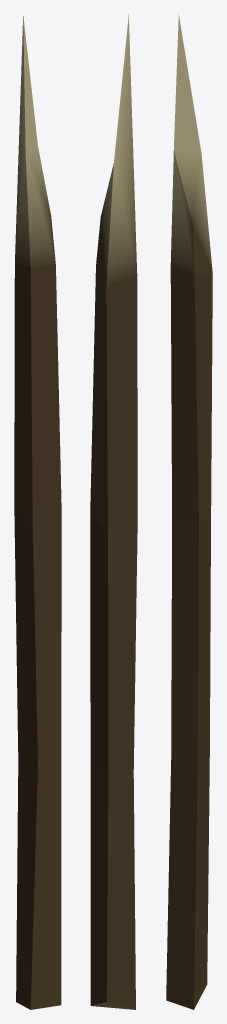
The model's file is spear1.glb.
3 views of the same model, side by side, from view 1: azimuth 30°, elevation 25°; view 2: azimuth 210°, elevation 25°; view 3: azimuth 330°, elevation 25° (orthographic).
Visible parts, largest first — view 1: Stick.024; view 2: Stick.024; view 3: Stick.024.
Part boxes in pixels (<box>): Stick.024: <box>14,16,61,1009</box>; Stick.024: <box>90,14,137,1009</box>; Stick.024: <box>166,14,212,1009</box>.
Bounding box in the file's own units: 0.0705 × 2.02 × 0.0705.
